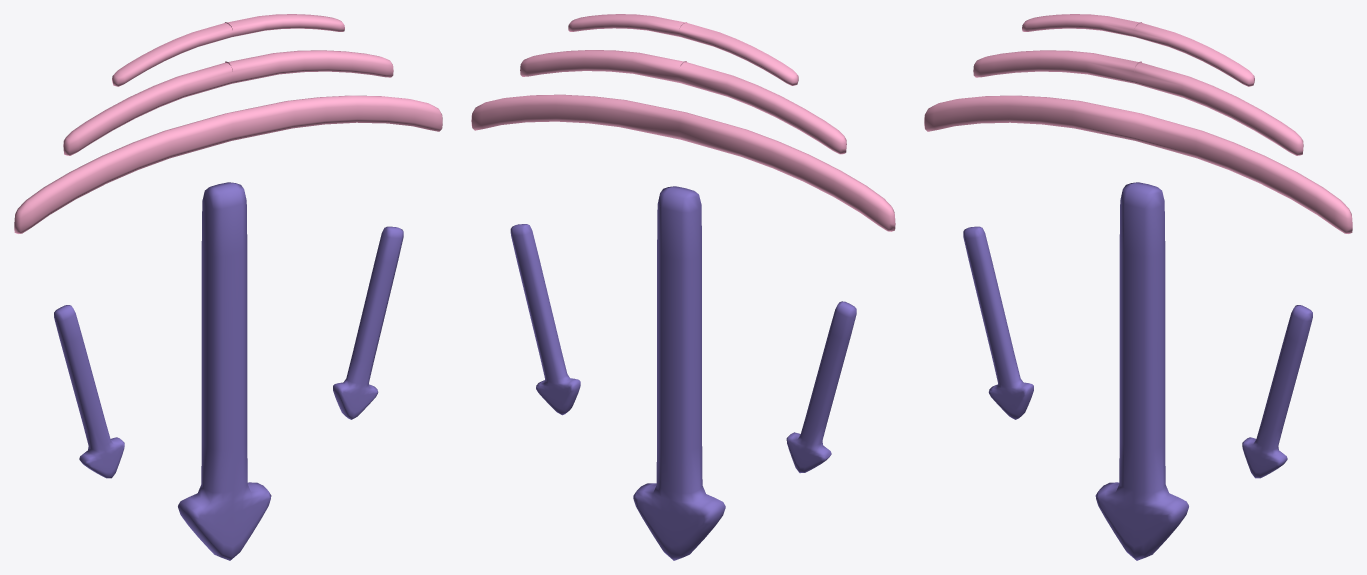
File: Oklar.fbx
The picture shows the model from 3 angles, left to right: view 1: azimuth 30°, elevation 25°; view 2: azimuth 150°, elevation 25°; view 3: azimuth 330°, elevation 25°; orthographic projection.
Parts seen in each view (by area): view 1: Dusen Ok Gostergec, Dusen Ok Buyuk, Dusen Ok Kucukler; view 2: Dusen Ok Gostergec, Dusen Ok Buyuk, Dusen Ok Kucukler; view 3: Dusen Ok Gostergec, Dusen Ok Buyuk, Dusen Ok Kucukler.
Part boxes in pixels (x1,y1,x2,y2): Dusen Ok Gostergec: (14, 14, 442, 233); Dusen Ok Buyuk: (178, 182, 271, 560); Dusen Ok Kucukler: (54, 226, 403, 478); Dusen Ok Gostergec: (471, 14, 895, 231); Dusen Ok Buyuk: (633, 186, 725, 560); Dusen Ok Kucukler: (510, 224, 856, 473); Dusen Ok Gostergec: (924, 14, 1352, 233); Dusen Ok Buyuk: (1095, 182, 1188, 560); Dusen Ok Kucukler: (963, 226, 1312, 478).
Bounding box in the file's own units: 175 × 210 × 12.
